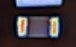COMP: (12, 13, 62, 41)
GAP: (16, 1, 60, 24)
